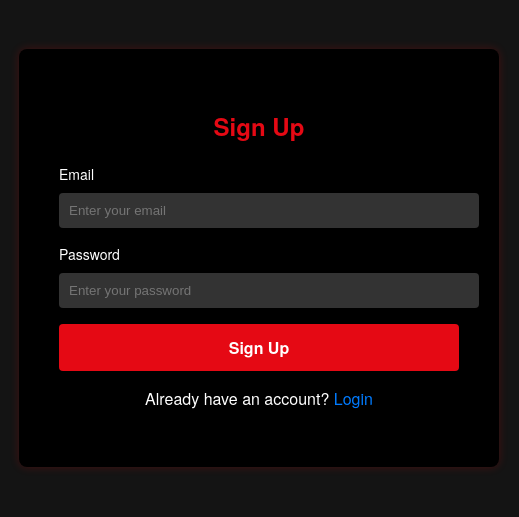
Test: SignupPage › shows error with existing email
This screenshot has width=519, height=517.
Type "exists@example.com" into the field with placeholder "Enter your email" at x=269, y=211, box [59,194,479,228]
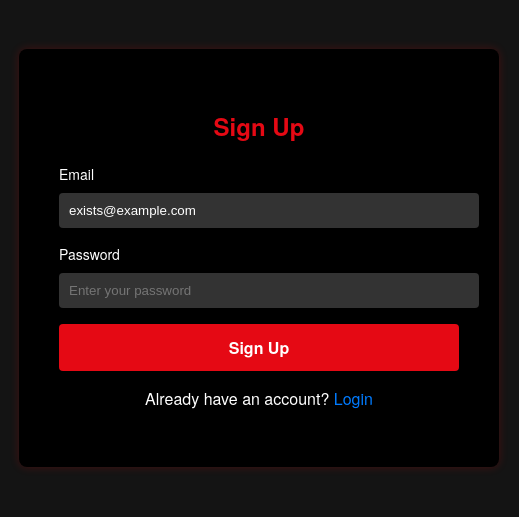
Type "password123" into the password field with placeholder "Enter your password" at x=269, y=291, box [59,274,479,308]
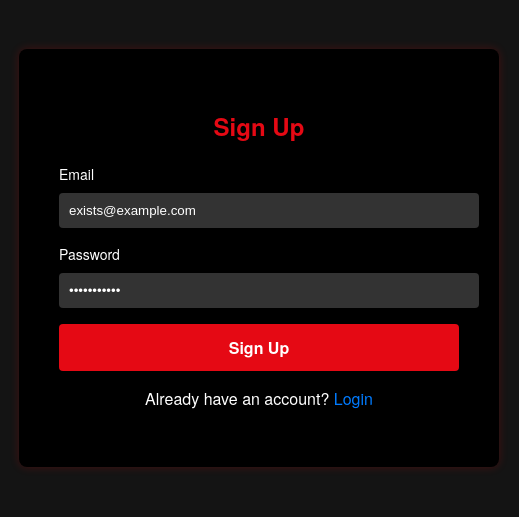
Click the button "Sign Up" at x=259, y=348, box [59,324,459,372]
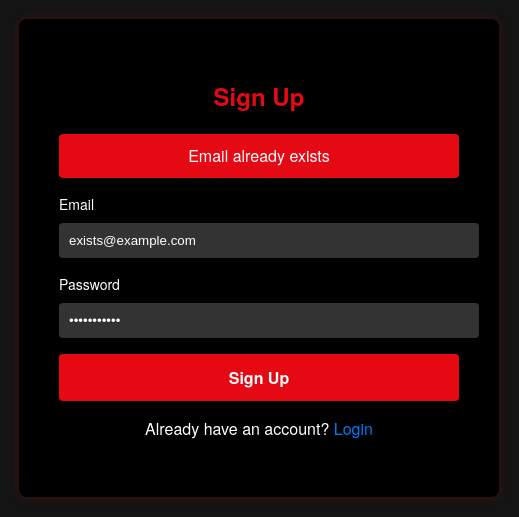
Expected: the text "Email already exists" is shown, [59,134,459,178]
